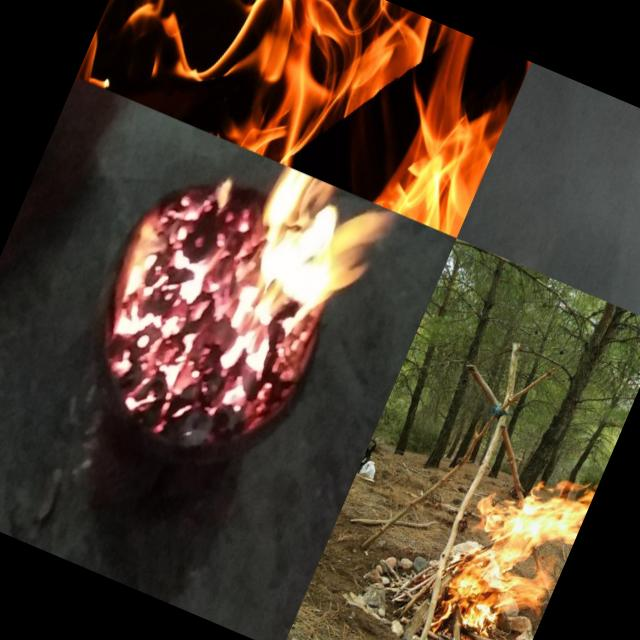fire: (75, 0, 530, 237), (73, 131, 263, 414), (214, 158, 402, 346), (150, 288, 322, 482), (429, 444, 597, 640)
smoke: (456, 61, 640, 326)
